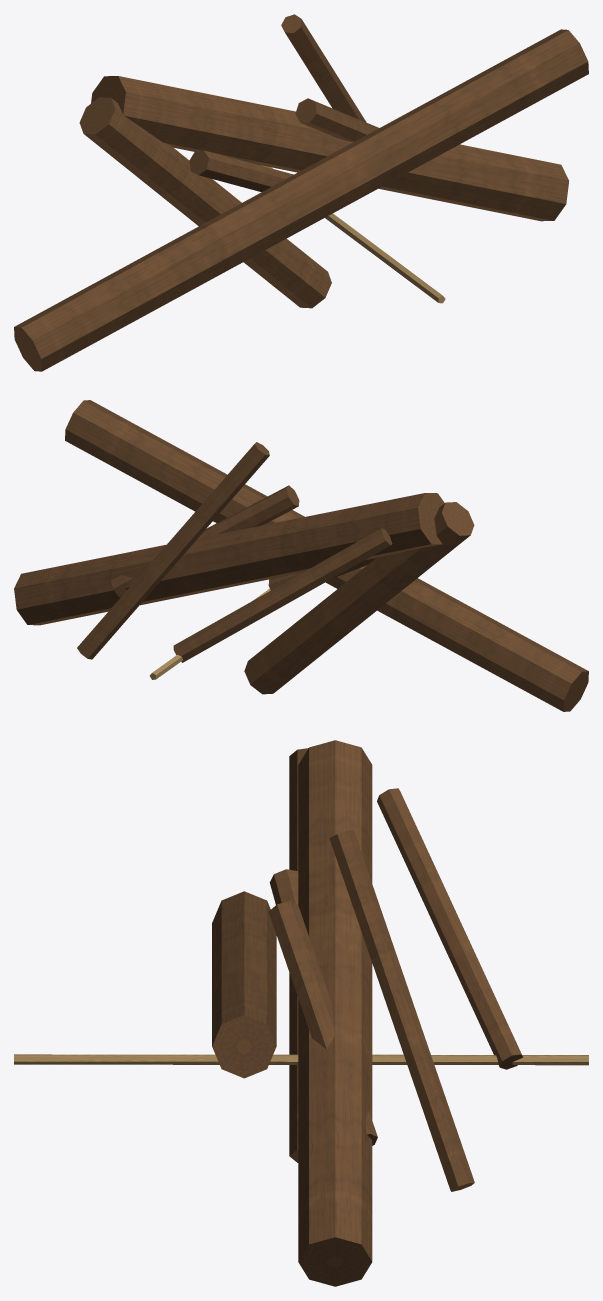
File: en-006_driftwood_cluster__small.obj
3 renders of one model, top to bottom at view 1: azimuth 30°, elevation 25°; view 2: azimuth 150°, elevation 25°; view 3: azimuth 270°, elevation 25°, orthographic. The views are drawn at different scales.
Visible parts, largest first — view 1: en-006_driftwood_cluster__small; view 2: en-006_driftwood_cluster__small; view 3: en-006_driftwood_cluster__small.
Boxes of the visible parts, bbox=[...] form: en-006_driftwood_cluster__small: bbox=[14, 14, 588, 371]; en-006_driftwood_cluster__small: bbox=[14, 400, 588, 711]; en-006_driftwood_cluster__small: bbox=[14, 740, 588, 1286].
Size of the model in its own units: 1.32 by 0.6156 by 0.9457.
2 materials, 2 textured.
